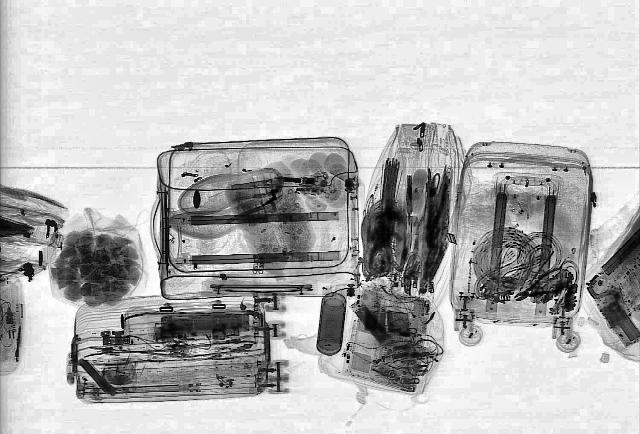Pliers: (506, 266, 578, 308)
